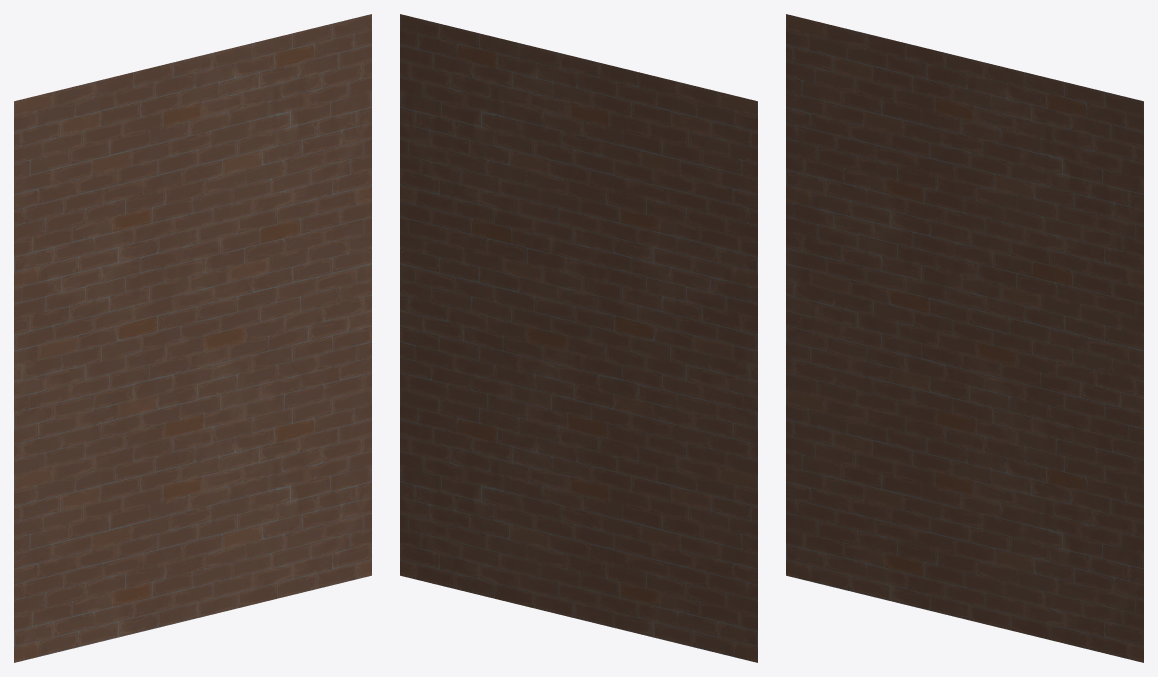
File: Brick_InteriorWall_3.glb
3 renders of one model, left to right at view 1: azimuth 30°, elevation 25°; view 2: azimuth 150°, elevation 25°; view 3: azimuth 330°, elevation 25°, orthographic.
Visible parts, largest first — view 1: Brick_InteriorWall_3; view 2: Brick_InteriorWall_3; view 3: Brick_InteriorWall_3.
Boxes of the visible parts, box(x1,y1,x2,y2) form: Brick_InteriorWall_3: box(14, 14, 371, 662); Brick_InteriorWall_3: box(400, 14, 757, 662); Brick_InteriorWall_3: box(786, 14, 1143, 662).
Size of the model in its own units: 2 by 3 by 0.
Materials: 1 (1 with a texture image).
